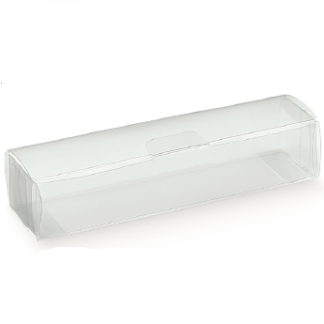PlasticBox: (2, 92, 324, 245)
